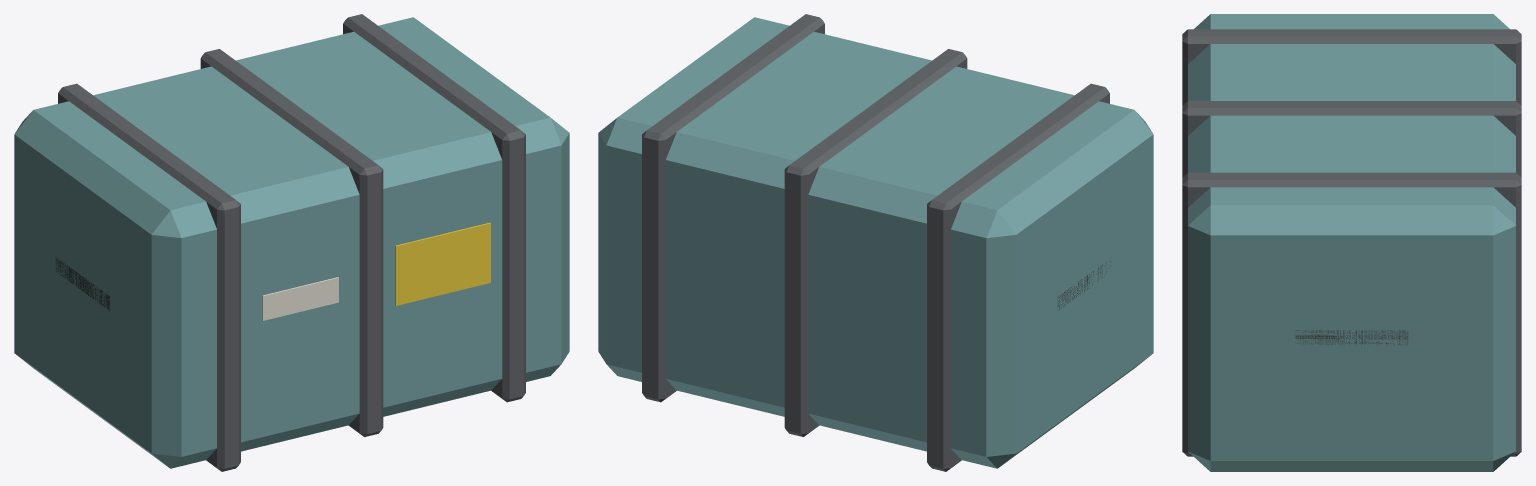
File: salvage_cargo_pod.glb
The picture shows the model from 3 angles, left to right: view 1: azimuth 30°, elevation 25°; view 2: azimuth 150°, elevation 25°; view 3: azimuth 270°, elevation 25°; orthographic projection. The views are drawn at different scales.
Visible parts, largest first — view 1: salvage_cargo_pod; view 2: salvage_cargo_pod; view 3: salvage_cargo_pod.
Part boxes in pixels (bbox=[...]): salvage_cargo_pod: bbox=[14, 14, 569, 471]; salvage_cargo_pod: bbox=[598, 14, 1153, 471]; salvage_cargo_pod: bbox=[1182, 14, 1521, 471].
Size of the model in its own units: 0.88 by 0.54 by 0.6.
